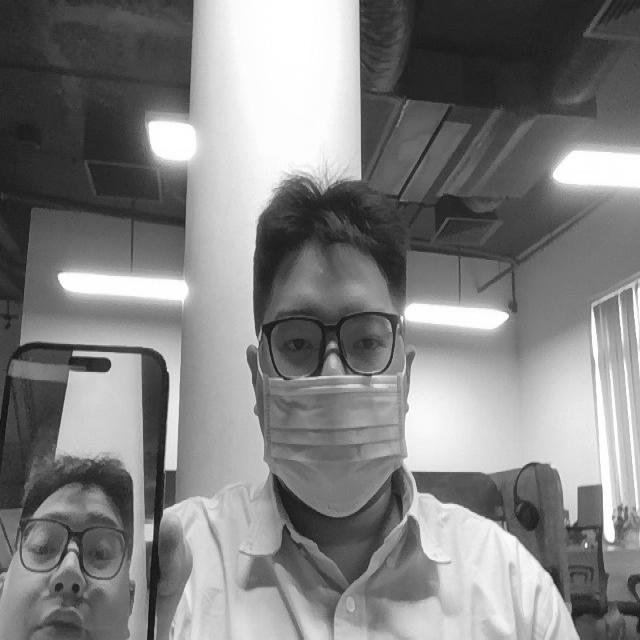fake: (1, 325, 183, 640), (0, 455, 139, 640), (258, 368, 409, 522)
real: (236, 164, 420, 537), (263, 308, 410, 378)
